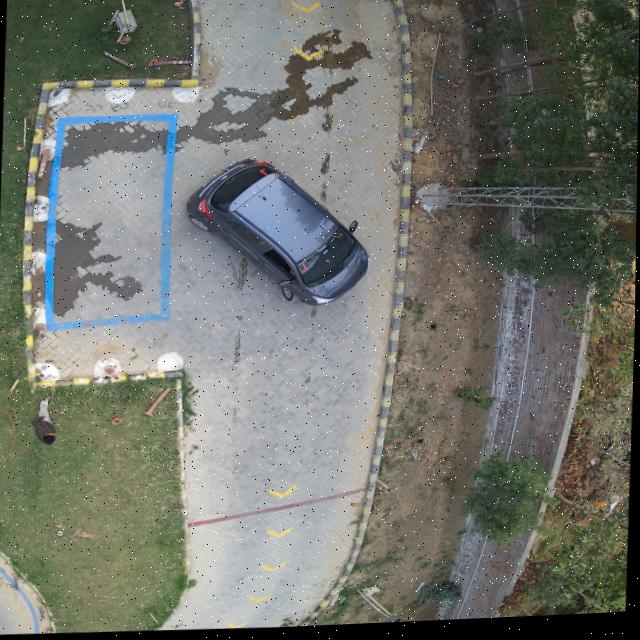car: (186, 161, 369, 309)
